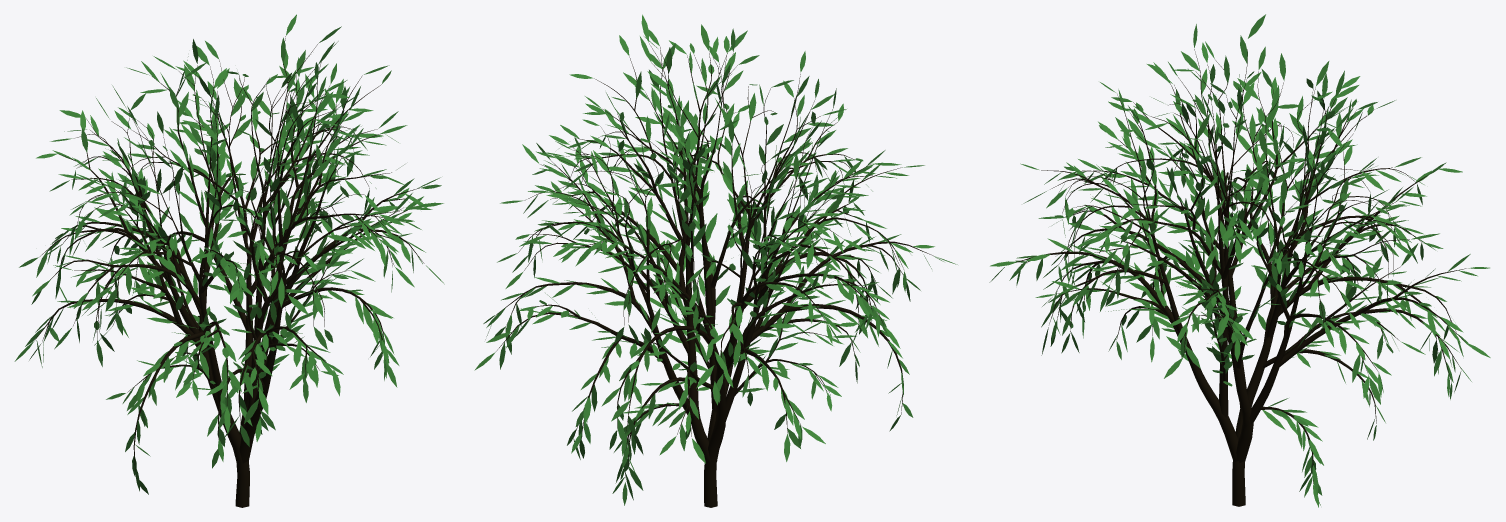
Rendered from Textured Tree 2.fbx.
The picture shows the model from 3 angles, left to right: view 1: azimuth 30°, elevation 25°; view 2: azimuth 150°, elevation 25°; view 3: azimuth 270°, elevation 25°; orthographic projection.
Visible parts, largest first — view 1: leaves, tree; view 2: leaves, tree; view 3: leaves, tree.
Boxes of the visible parts, <box> form: leaves: <box>14,14,444,494</box>; tree: <box>35,36,424,507</box>; leaves: <box>474,14,957,505</box>; tree: <box>496,43,933,507</box>; leaves: <box>989,14,1490,507</box>; tree: <box>1016,49,1466,506</box>.
Bounding box in the file's own units: 560 × 663 × 653.
